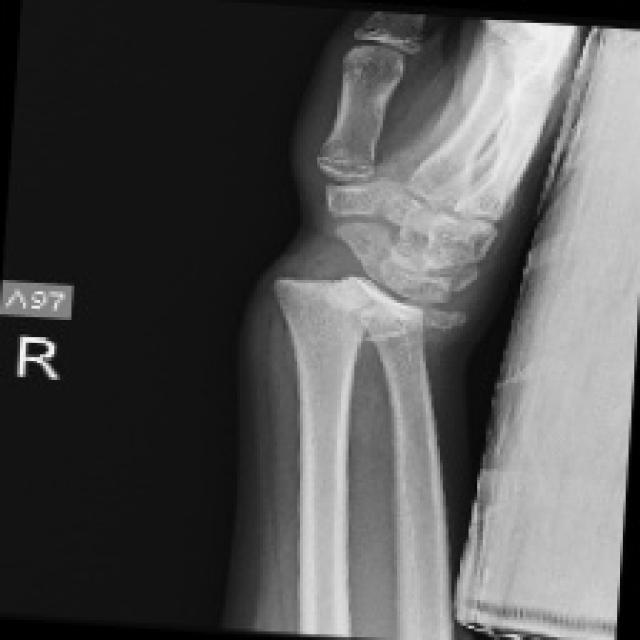fracture: (230, 126, 407, 360)
